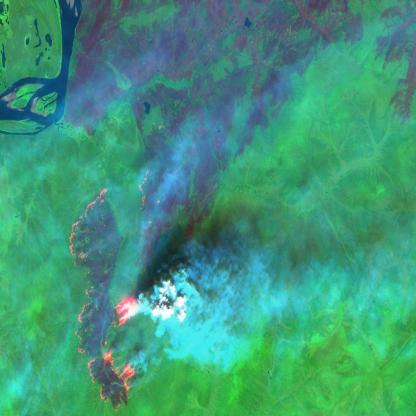fire: (66, 175, 151, 416)
